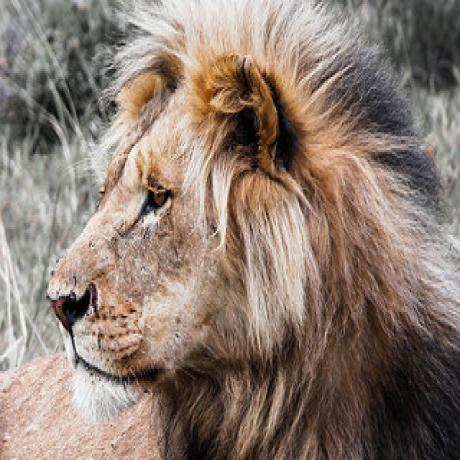Lion: (44, 0, 460, 460)
